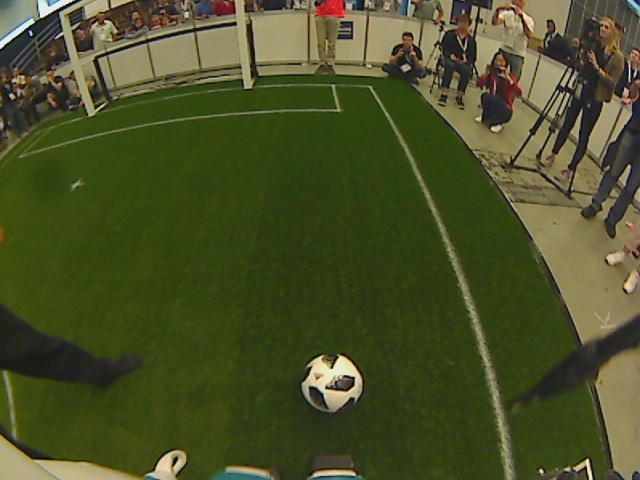ball: (299, 350, 366, 414)
